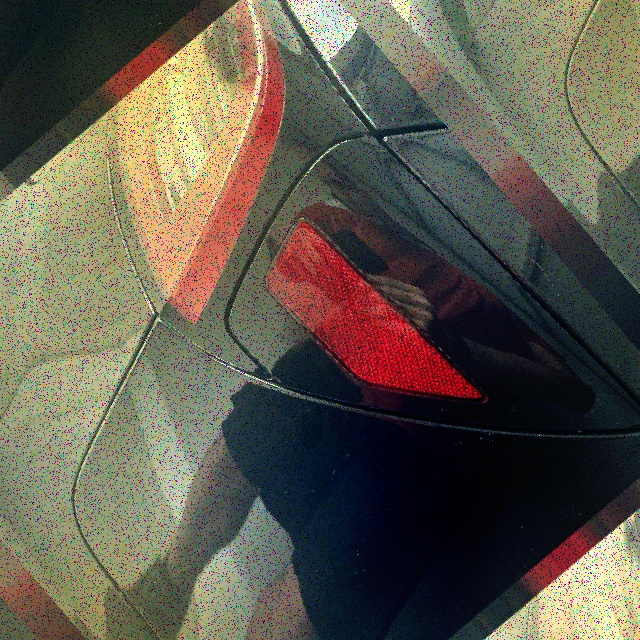reflector: (243, 198, 493, 465)
